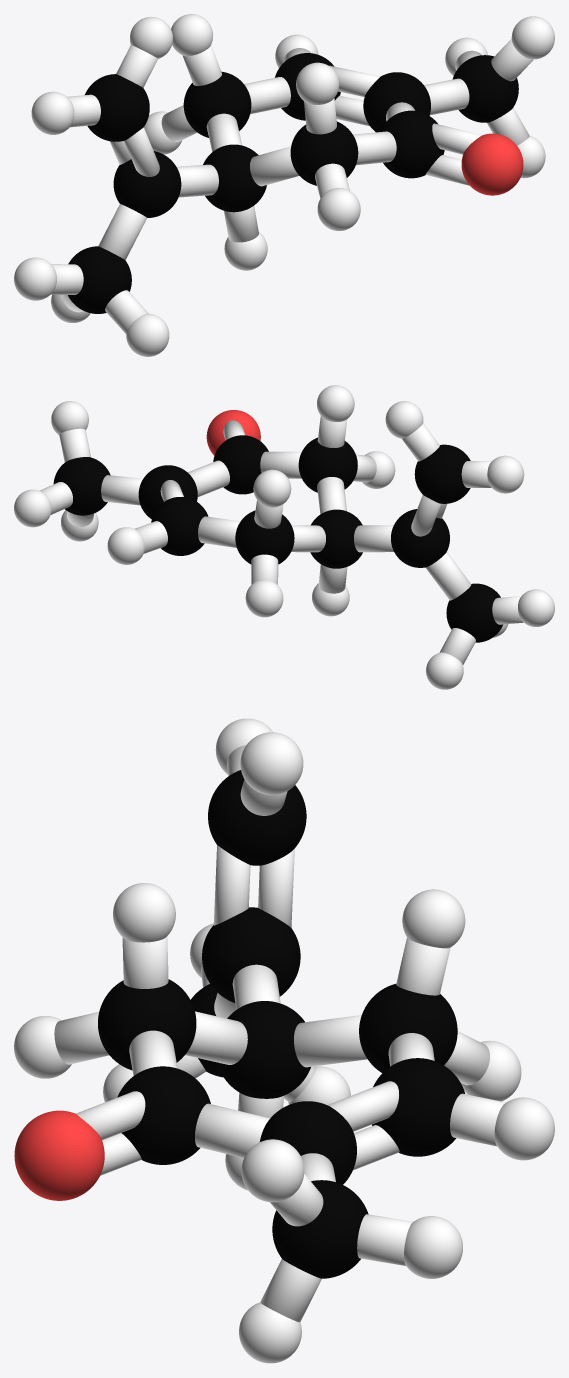
3 views of the same model, one above another, from view 1: azimuth 30°, elevation 25°; view 2: azimuth 150°, elevation 25°; view 3: azimuth 270°, elevation 25° (orthographic). The views are drawn at different scales.
Visible parts, largest first — view 1: molecule; view 2: molecule; view 3: molecule.
Boxes of the visible parts, x1=… form: molecule: x1=14, y1=14, x2=554, y2=356; molecule: x1=14, y1=385, x2=554, y2=689; molecule: x1=14, y1=718, x2=554, y2=1363.
Size of the model in its own units: 8.86 by 4.58 by 5.15.
